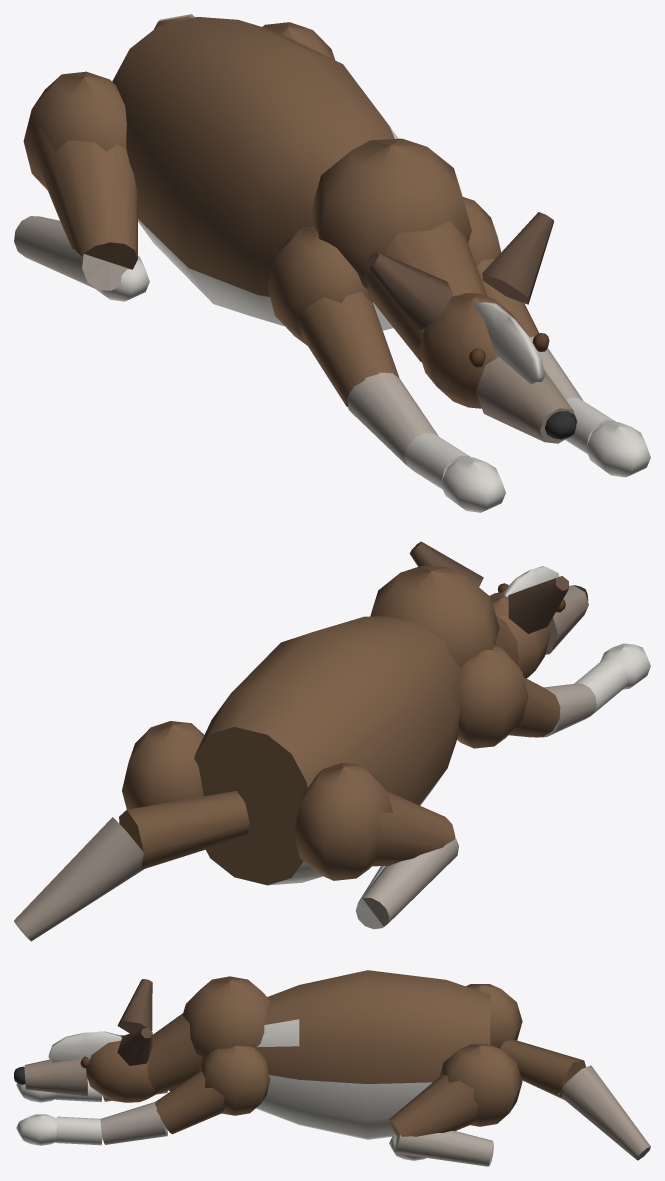
File: biscuit_lying_a.glb
3 views of the same model, one above another, from view 1: azimuth 30°, elevation 25°; view 2: azimuth 150°, elevation 25°; view 3: azimuth 270°, elevation 25° (orthographic). The views are drawn at different scales.
Visible parts, largest first — view 1: body; view 2: body; view 3: body.
Boxes of the visible parts, bbox=[...] form: body: bbox=[14, 14, 650, 512]; body: bbox=[14, 541, 650, 941]; body: bbox=[14, 970, 650, 1166].
Bounding box in the file's own units: 0.472 × 0.3326 × 1.25.
